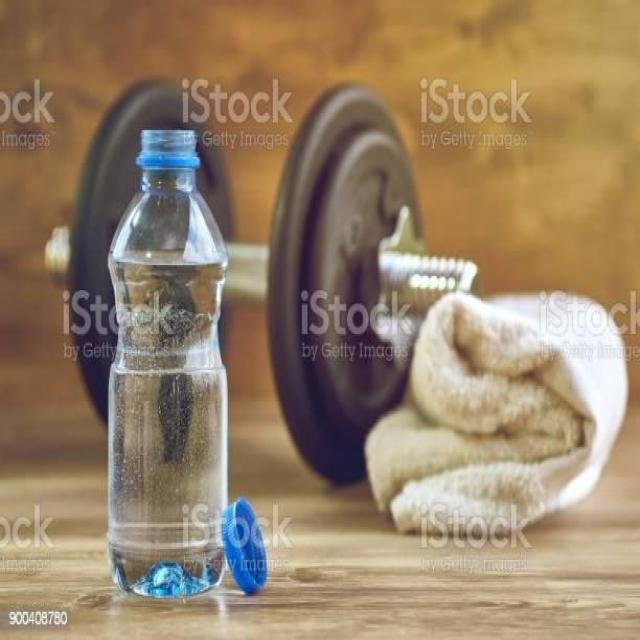bottle: (94, 112, 235, 623)
